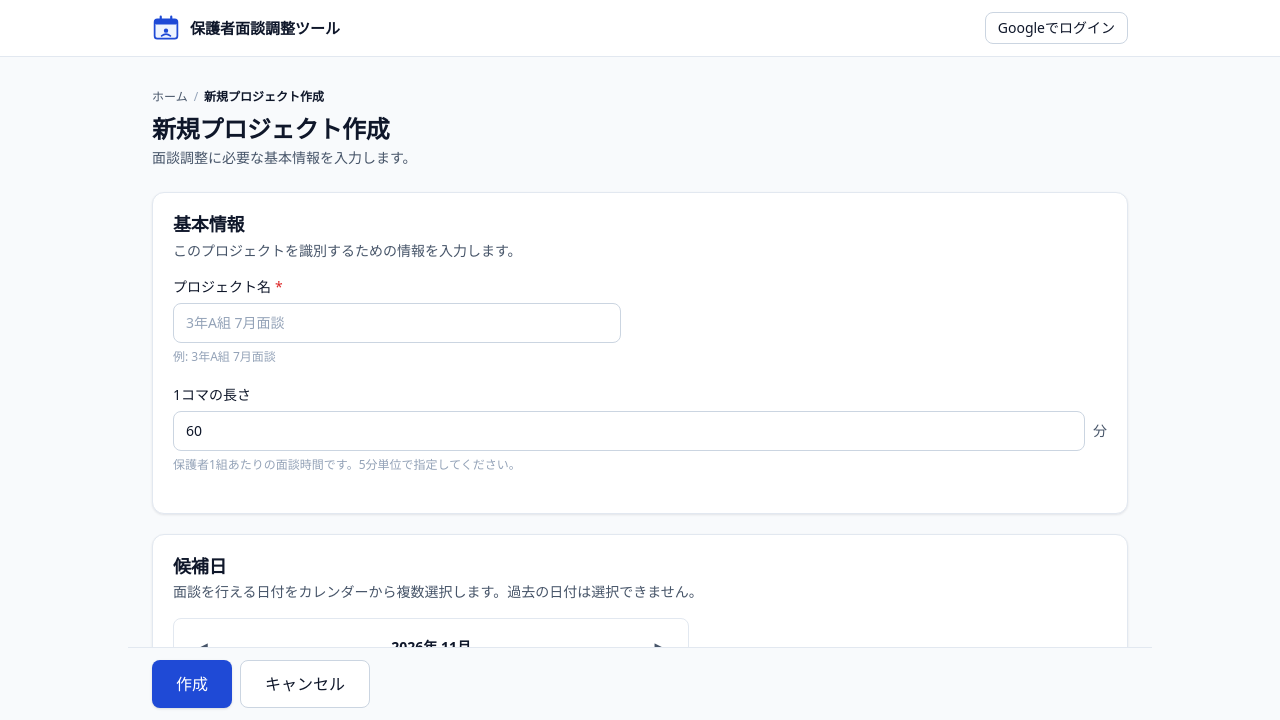
ProjectNewPage 生徒別ルール › 生徒別ルールに不備があるときは作成せずエラーを表示する
The image size is (1280, 720).
In the field labelled "プロジェクト名*": (397, 323) left=173, top=303, right=621, bottom=343, type "テスト面談"
(page scrolled)
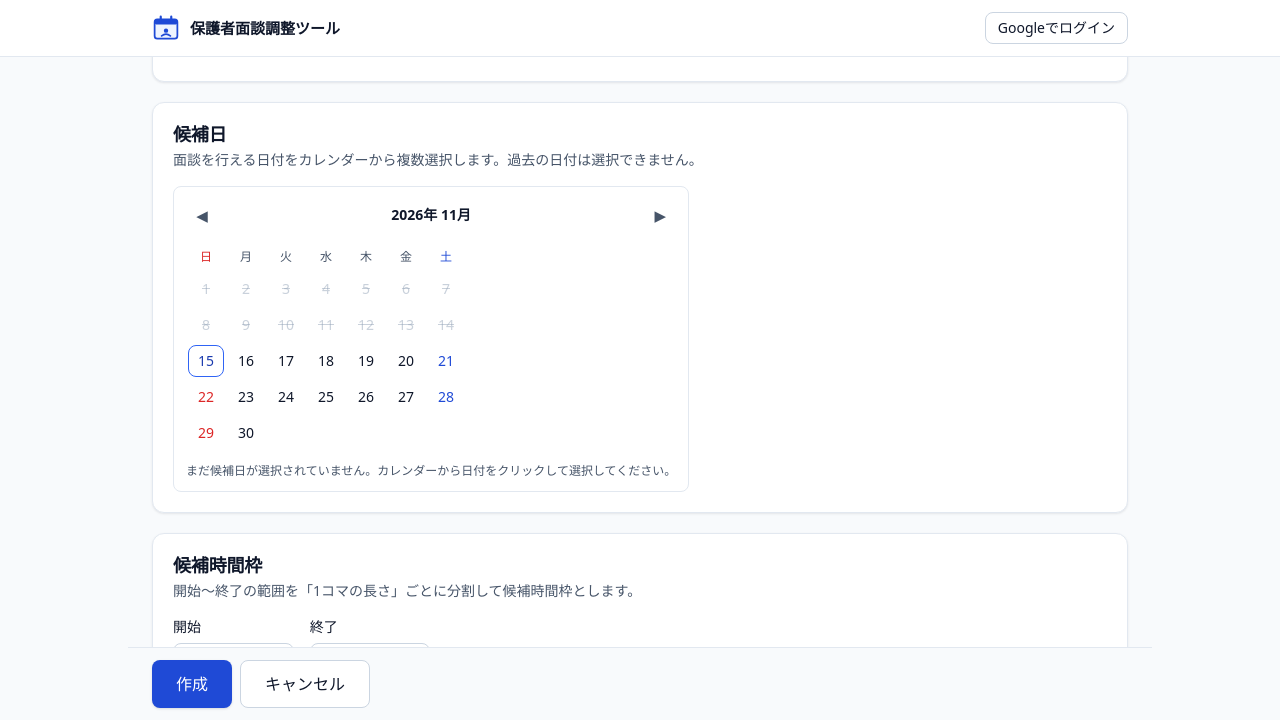
expect the element with test id "candidate-dates-calendar" is shown: met, box left=173, top=186, right=689, bottom=492
Click the button with test id "^calendar-day-": (206, 361) left=188, top=345, right=224, bottom=377
(page scrolled)
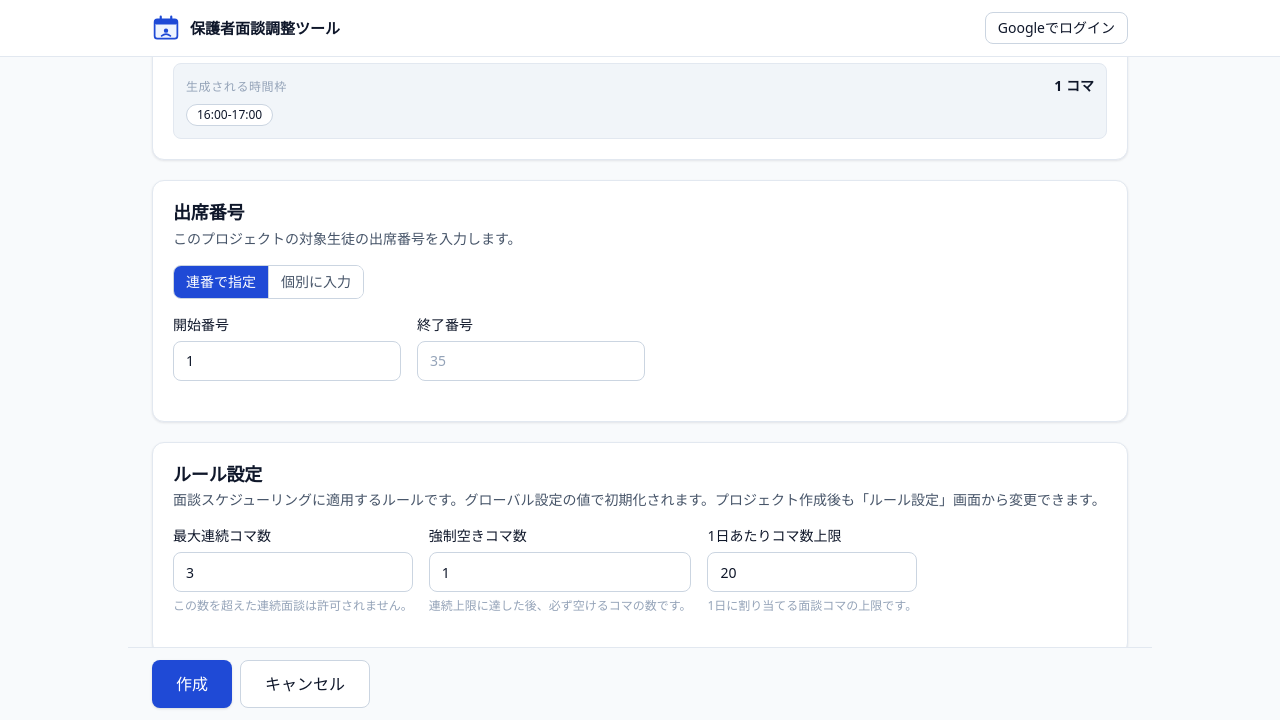
In the number field labelled "終了番号": (531, 361) left=417, top=341, right=645, bottom=381, type "3"
(page scrolled)
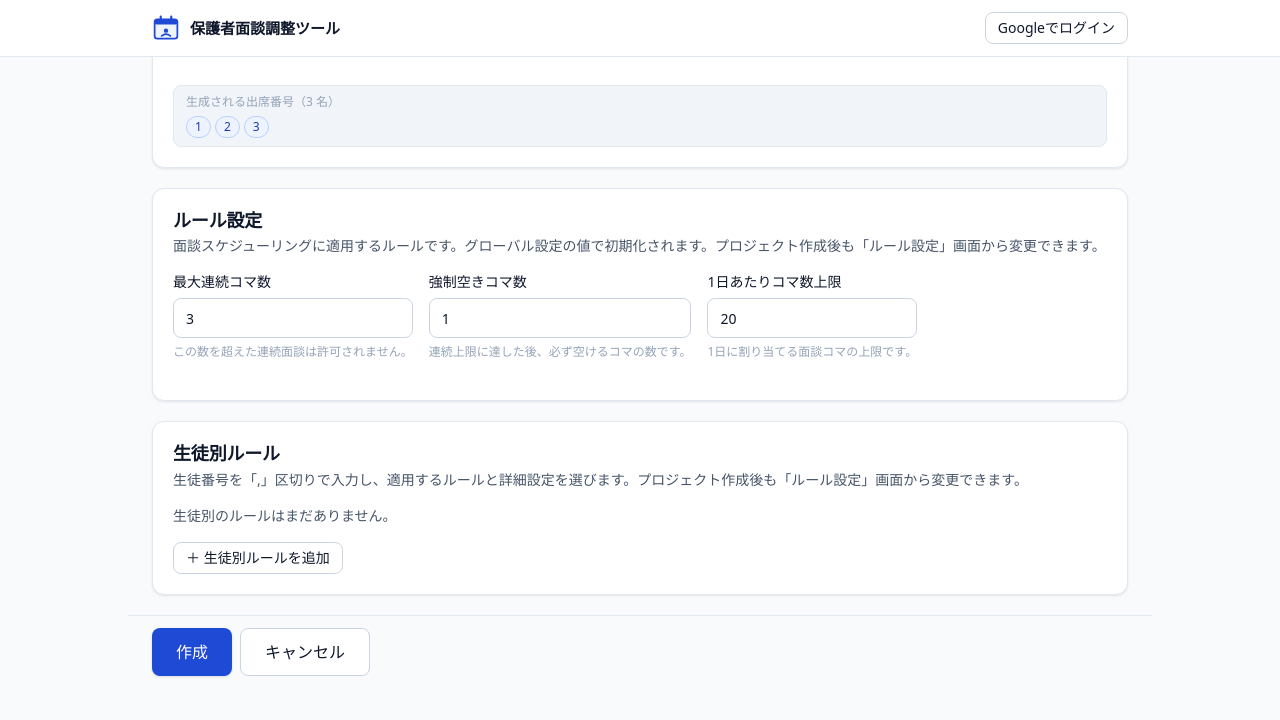
expect the number field labelled "最大連続コマ数" is shown: met, box left=173, top=298, right=413, bottom=338
Click the button "＋ 生徒別ルールを追加": (258, 558) left=173, top=542, right=343, bottom=574
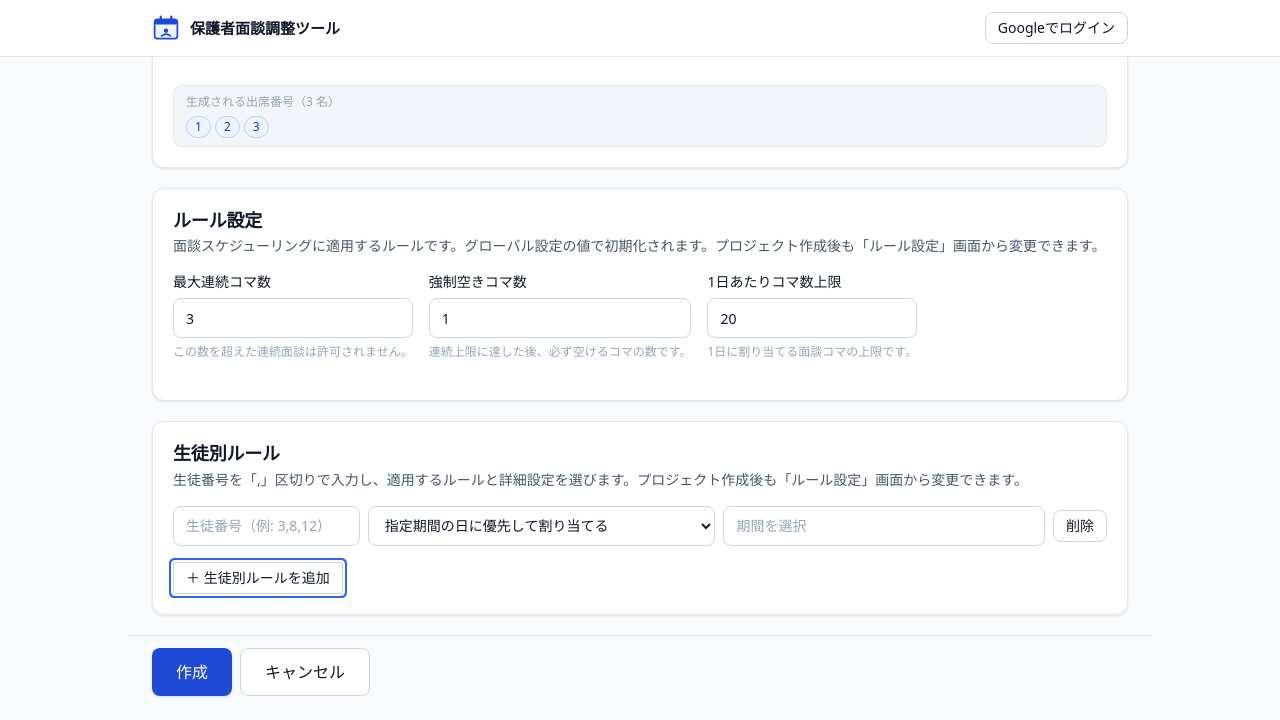
Click the button "作成": (192, 672) left=152, top=648, right=232, bottom=696
(page scrolled)
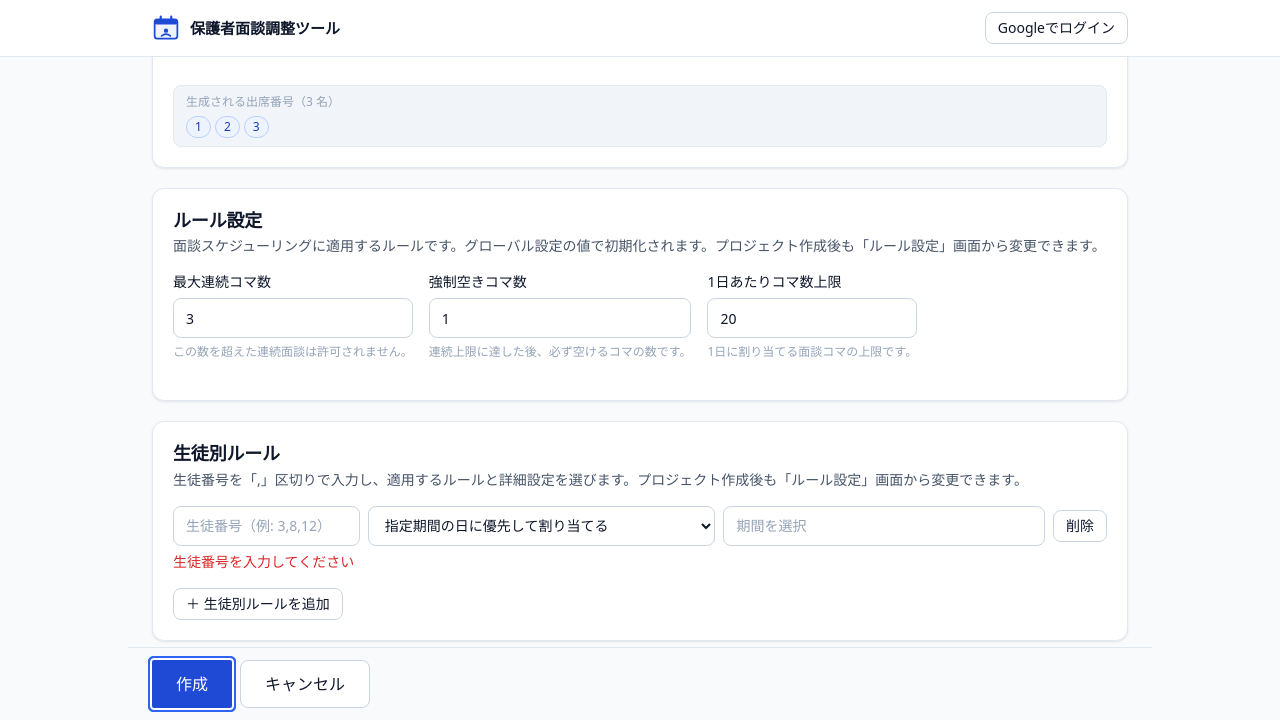
expect the text "生徒番号を入力してください" is shown: met, box left=173, top=552, right=354, bottom=570
